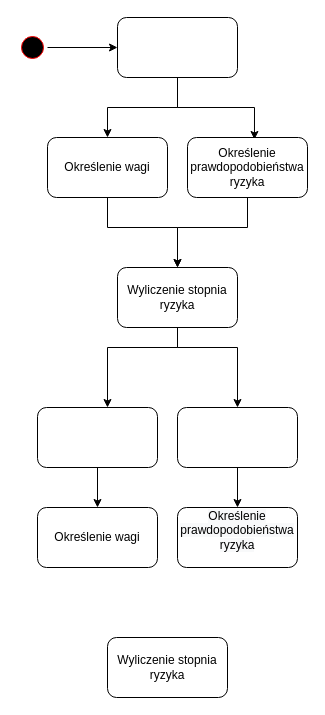
The diagram is 325 pixels wide and 715 high, and some of its shapes have lost their labels. Here are the shapes that lost their labels. From the top down, the centre of each, then its label:
the point at 177,47: Identyfikacja ryzyka
the point at 97,437: Czynności minimalizujące wagę ryzyka
the point at 237,437: Czynności minimalizujące stopień ryzyka
